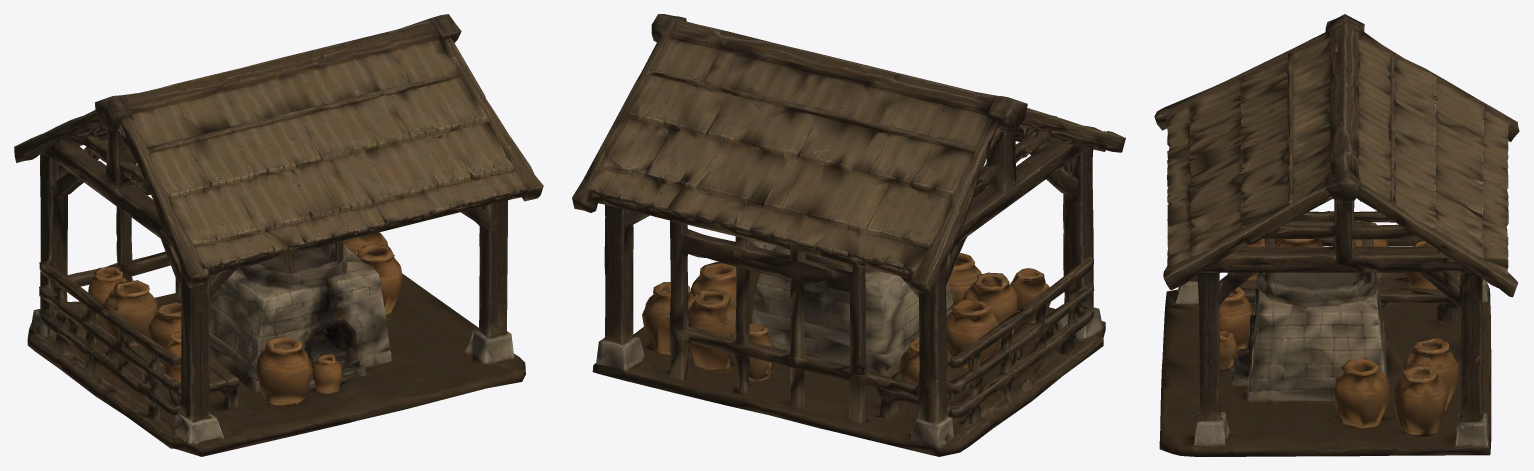
File: bq_pottery.mid.glb
3 views of the same model, side by side, from view 1: azimuth 30°, elevation 25°; view 2: azimuth 150°, elevation 25°; view 3: azimuth 270°, elevation 25° (orthographic). The views are drawn at different scales.
Parts seen in each view (by area): view 1: mesh_node; view 2: mesh_node; view 3: mesh_node.
Boxes of the visible parts, x1,y1,x2,y2 form: mesh_node: [14, 14, 543, 456]; mesh_node: [572, 14, 1125, 456]; mesh_node: [1154, 14, 1519, 456].
Bounding box in the file's own units: 1.9 × 1.47 × 1.71.
Materials: 1 (1 with a texture image).
